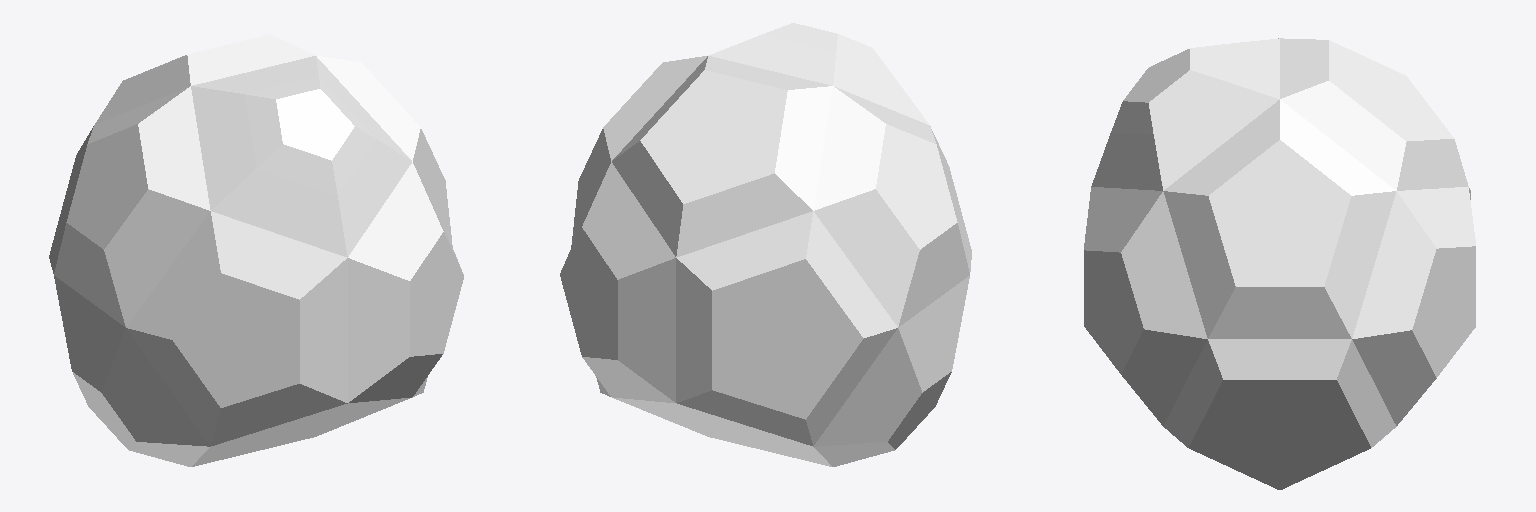
The model's file is Rocks.obj.
3 renders of one model, left to right at view 1: azimuth 30°, elevation 25°; view 2: azimuth 150°, elevation 25°; view 3: azimuth 270°, elevation 25°, orthographic.
Visible parts, largest first — view 1: rocks2.001; view 2: rocks2.001; view 3: rocks2.001.
Part boxes in pixels (x1,y1,x2,y2): rocks2.001: (49, 34, 463, 466); rocks2.001: (560, 23, 971, 466); rocks2.001: (1084, 38, 1475, 489).
Bounding box in the file's own units: 14.84 × 16.24 × 14.78.